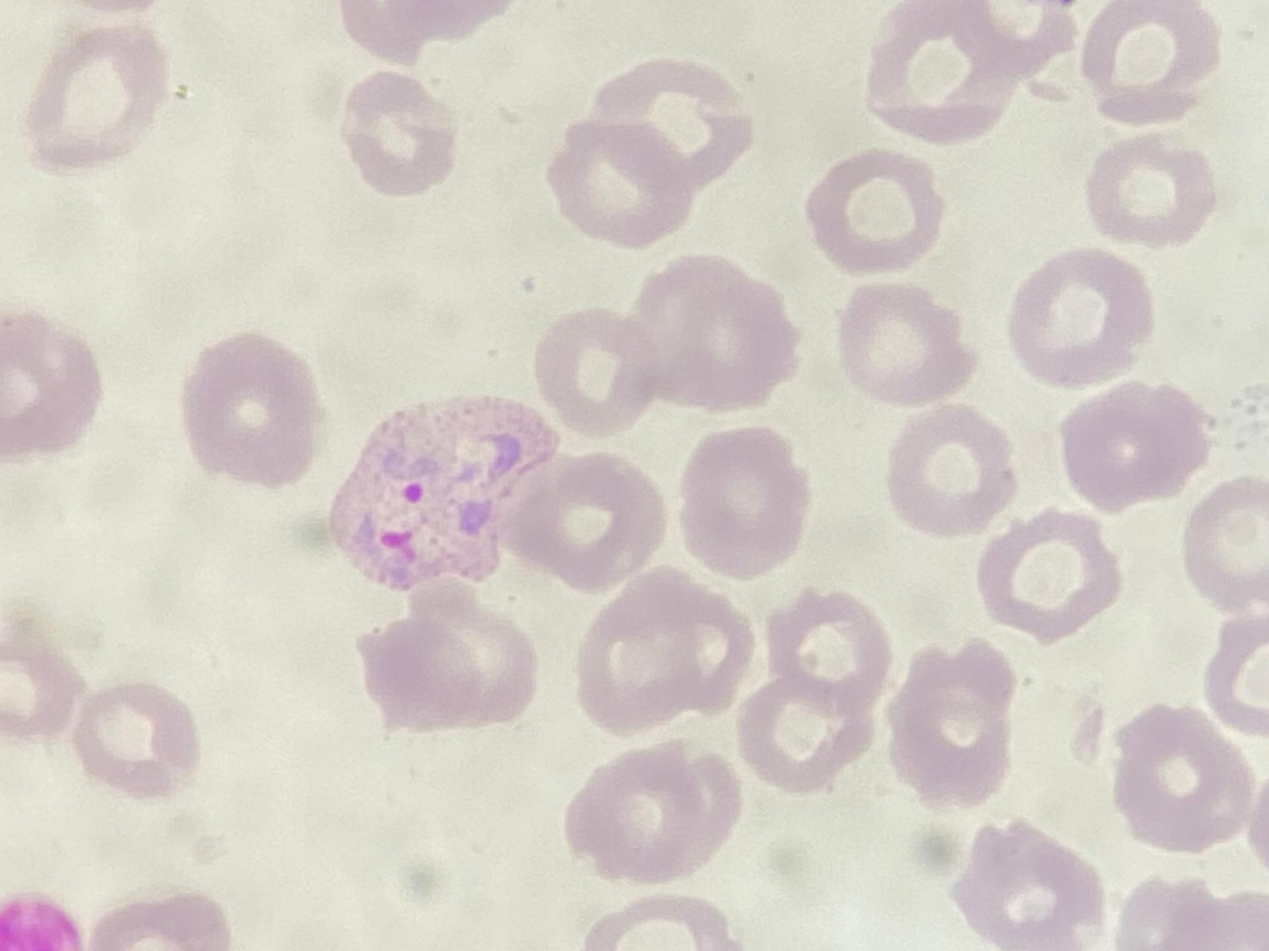Infected: (705, 361, 931, 549)
Uninfected: (512, 215, 693, 385), (731, 213, 911, 367), (530, 60, 705, 210), (472, 539, 643, 690), (603, 357, 767, 503), (253, 141, 388, 309), (245, 807, 399, 951), (15, 95, 159, 248), (514, 760, 677, 892), (1098, 777, 1241, 927), (948, 463, 1086, 615), (456, 371, 592, 525), (58, 437, 211, 572), (116, 561, 262, 700), (166, 1, 318, 133), (147, 306, 294, 442), (573, 701, 720, 830), (249, 410, 387, 545), (322, 677, 465, 806), (47, 824, 193, 950), (290, 543, 432, 669), (397, 159, 538, 278), (810, 750, 929, 882), (1165, 489, 1268, 641), (378, 237, 500, 365), (52, 701, 184, 819), (1070, 148, 1198, 268), (615, 519, 734, 641), (193, 863, 319, 951)
